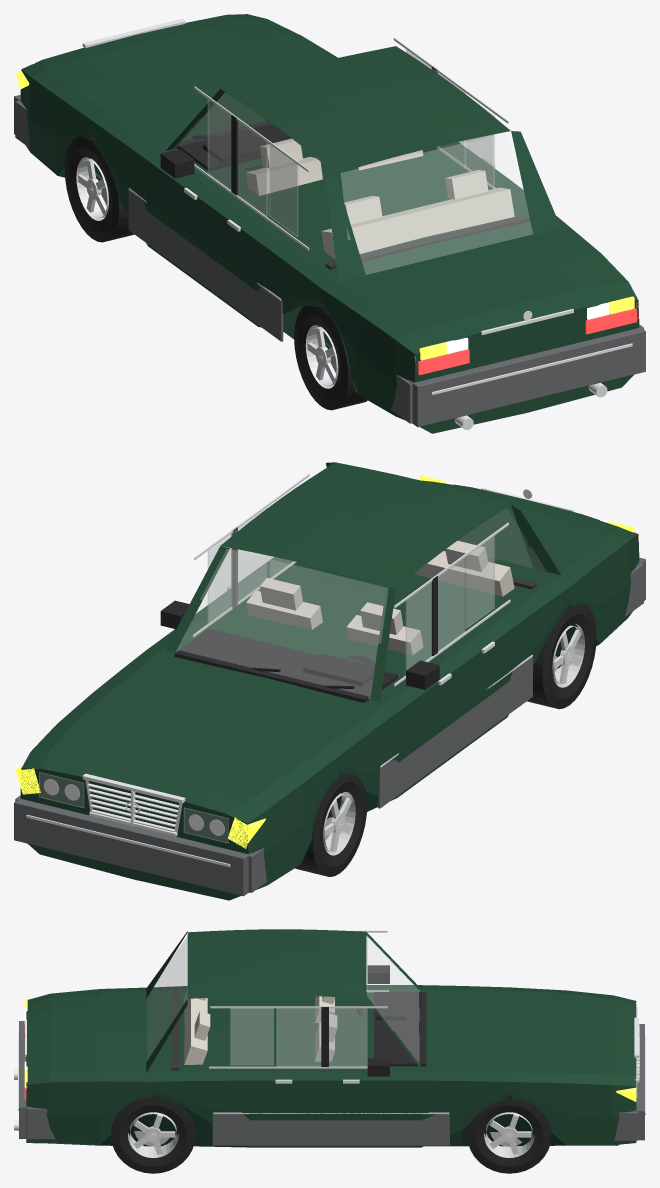
File: Car_Lexus_LS400_UCF20_Complete.glb
3 views of the same model, one above another, from view 1: azimuth 30°, elevation 25°; view 2: azimuth 150°, elevation 25°; view 3: azimuth 270°, elevation 25° (orthographic). The views are drawn at different scales.
Parts seen in each view (by area): view 1: GEO_Lexus_LS400_Aerodynamic_Hull, GEO_Lexus_Green_Acoustic_Windows, GEO_Lexus_Roof_and_Pillars, GEO_Lexus_Wrap_Around_Bumpers, GEO_Lexus_Ivory_Leather_Seating, GEO_Lexus_Bridgestone_Turanza_Tires, GEO_Lexus_TwoTone_Lower_Cladding, GEO_Lexus_5Spoke_Alloy_Wheels, GEO_Lexus_Ergonomic_Dashboard, GEO_Lexus_Chrome_Greenhouse_Jewelry, GEO_Lexus_Taillamp_Ruby_Lenses, GEO_Lexus_Black_Window_Trim_and_Mirrors (+4 smaller); view 2: GEO_Lexus_LS400_Aerodynamic_Hull, GEO_Lexus_Green_Acoustic_Windows, GEO_Lexus_Roof_and_Pillars, GEO_Lexus_Wrap_Around_Bumpers, GEO_Lexus_Ivory_Leather_Seating, GEO_Lexus_Ergonomic_Dashboard, GEO_Lexus_Bridgestone_Turanza_Tires, GEO_Lexus_TwoTone_Lower_Cladding, GEO_Lexus_5Spoke_Alloy_Wheels, GEO_Lexus_Black_Window_Trim_and_Mirrors, GEO_Lexus_Crystal_Headlamp_Lenses, GEO_Lexus_Grille_Horizontal_Slats (+5 smaller); view 3: GEO_Lexus_LS400_Aerodynamic_Hull, GEO_Lexus_Green_Acoustic_Windows, GEO_Lexus_Roof_and_Pillars, GEO_Lexus_Bridgestone_Turanza_Tires, GEO_Lexus_TwoTone_Lower_Cladding, GEO_Lexus_Ergonomic_Dashboard, GEO_Lexus_Wrap_Around_Bumpers, GEO_Lexus_Ivory_Leather_Seating, GEO_Lexus_5Spoke_Alloy_Wheels, GEO_Lexus_Black_Window_Trim_and_Mirrors, GEO_Lexus_Chrome_Greenhouse_Jewelry, GEO_Lexus_Bumper_Chrome_Inserts (+1 smaller).
Part boxes in pixels (<box>): GEO_Lexus_LS400_Aerodynamic_Hull: <box>20,14,639,433</box>; GEO_Lexus_Green_Acoustic_Windows: <box>173,49,532,274</box>; GEO_Lexus_Roof_and_Pillars: <box>166,46,560,282</box>; GEO_Lexus_Wrap_Around_Bumpers: <box>14,95,645,427</box>; GEO_Lexus_Ivory_Leather_Seating: <box>246,138,514,258</box>; GEO_Lexus_Bridgestone_Turanza_Tires: <box>64,136,367,410</box>; GEO_Lexus_TwoTone_Lower_Cladding: <box>128,190,283,341</box>; GEO_Lexus_5Spoke_Alloy_Wheels: <box>76,157,338,388</box>; GEO_Lexus_Ergonomic_Dashboard: <box>176,121,302,171</box>; GEO_Lexus_Chrome_Greenhouse_Jewelry: <box>184,37,508,250</box>; GEO_Lexus_Taillamp_Ruby_Lenses: <box>414,302,638,375</box>; GEO_Lexus_Black_Window_Trim_and_Mirrors: <box>160,66,437,195</box>; GEO_Lexus_LS400_Aerodynamic_Hull: <box>20,480,639,900</box>; GEO_Lexus_Green_Acoustic_Windows: <box>176,507,545,698</box>; GEO_Lexus_Roof_and_Pillars: <box>165,462,560,702</box>; GEO_Lexus_Wrap_Around_Bumpers: <box>14,557,645,896</box>; GEO_Lexus_Ivory_Leather_Seating: <box>246,540,514,655</box>; GEO_Lexus_Ergonomic_Dashboard: <box>174,628,397,702</box>; GEO_Lexus_Bridgestone_Turanza_Tires: <box>295,603,596,876</box>; GEO_Lexus_TwoTone_Lower_Cladding: <box>378,656,532,808</box>; GEO_Lexus_5Spoke_Alloy_Wheels: <box>323,624,584,855</box>; GEO_Lexus_Black_Window_Trim_and_Mirrors: <box>160,527,439,689</box>; GEO_Lexus_Crystal_Headlamp_Lenses: <box>39,772,228,843</box>; GEO_Lexus_Grille_Horizontal_Slats: <box>87,783,179,831</box>; GEO_Lexus_LS400_Aerodynamic_Hull: <box>26,985,636,1147</box>; GEO_Lexus_Green_Acoustic_Windows: <box>147,935,419,1066</box>; GEO_Lexus_Roof_and_Pillars: <box>146,929,421,1072</box>; GEO_Lexus_Bridgestone_Turanza_Tires: <box>111,1097,551,1173</box>; GEO_Lexus_TwoTone_Lower_Cladding: <box>212,1114,449,1145</box>; GEO_Lexus_Ergonomic_Dashboard: <box>357,992,426,1066</box>; GEO_Lexus_Wrap_Around_Bumpers: <box>19,1021,644,1140</box>; GEO_Lexus_Ivory_Leather_Seating: <box>184,988,337,1064</box>; GEO_Lexus_5Spoke_Alloy_Wheels: <box>128,1112,534,1157</box>; GEO_Lexus_Black_Window_Trim_and_Mirrors: <box>321,965,421,1076</box>; GEO_Lexus_Chrome_Greenhouse_Jewelry: <box>209,930,388,1083</box>; GEO_Lexus_Bumper_Chrome_Inserts: <box>14,1033,645,1130</box>.
Size of the model in its own units: 1.9 by 1.47 by 5.06.
